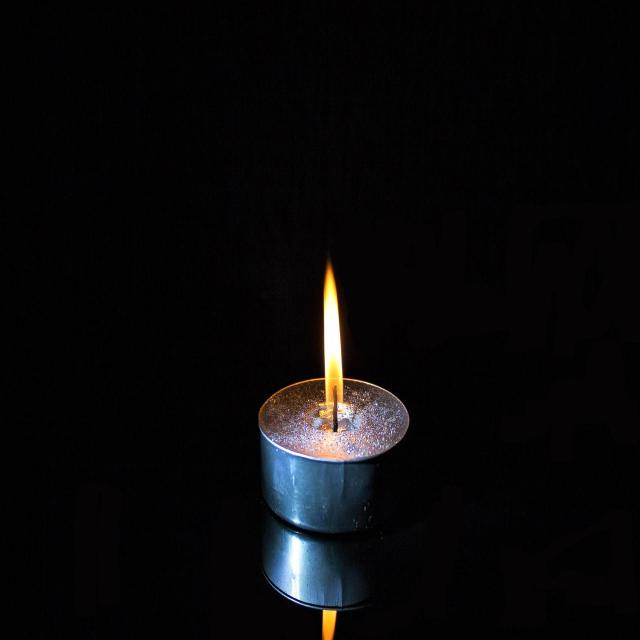Fire_Save: (257, 257, 410, 535), (322, 258, 344, 408)
